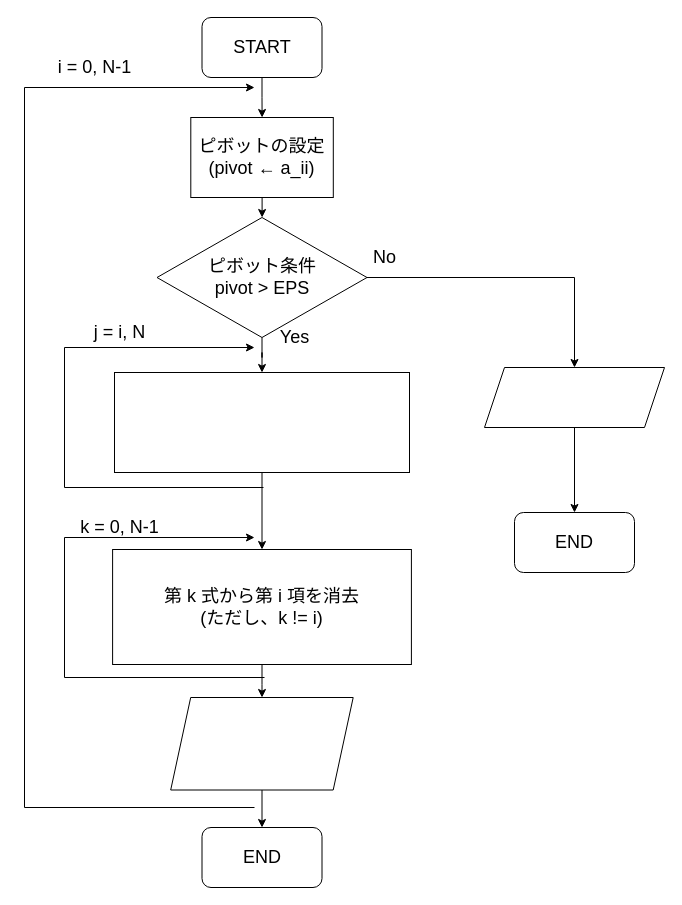
The diagram is 682 pixels wide and 905 high, and some of its shapes have lost their labels. Each missing label, with the box of its shape:
エラー打ち出し: (484, 366, 664, 428)
第 i 式をピボットで割る(規格化) (a_ij ← a_ij / pivot): (114, 372, 410, 472)
解答打ち出し: (170, 696, 353, 790)
